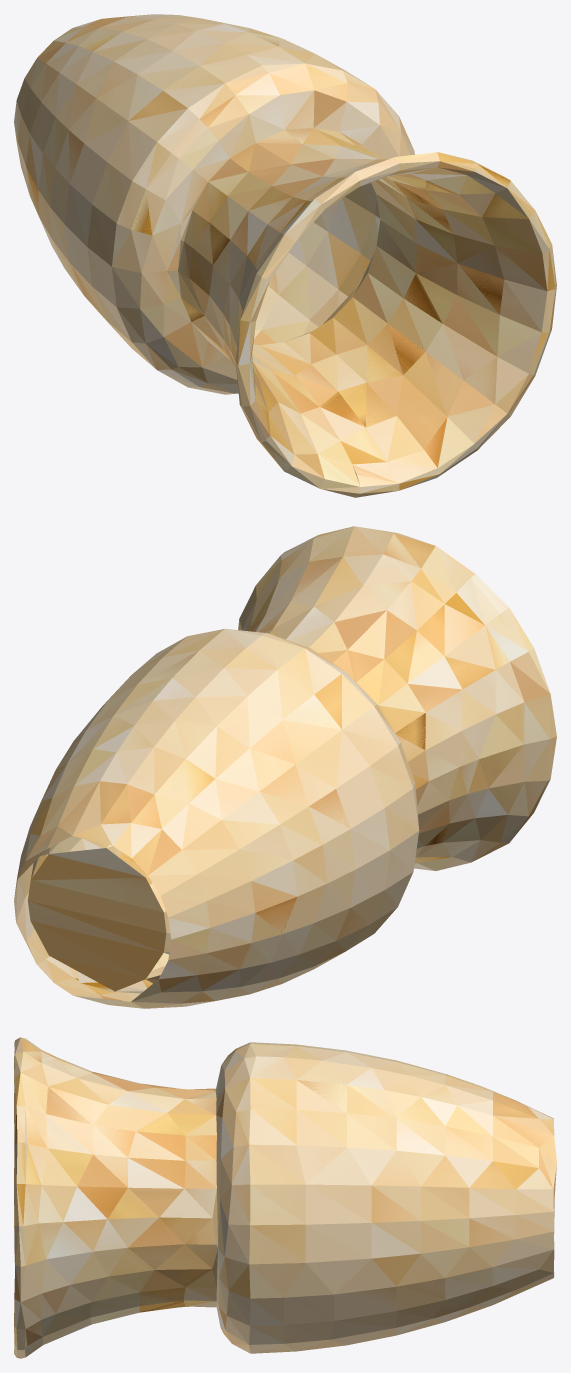
File: model_align.obj
3 views of the same model, one above another, from view 1: azimuth 30°, elevation 25°; view 2: azimuth 150°, elevation 25°; view 3: azimuth 270°, elevation 25° (orthographic). The views are drawn at different scales.
Size of the model in its own units: 0.0898 by 0.0891 by 0.1498.
Materials: 1 (1 with a texture image).
